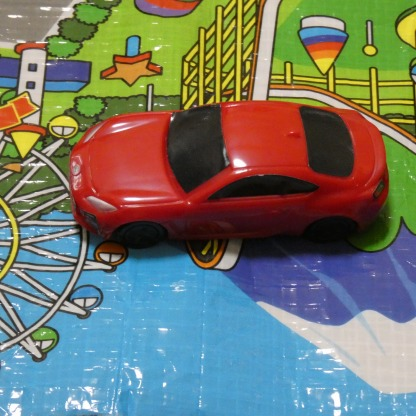car: (68, 101, 391, 252)
